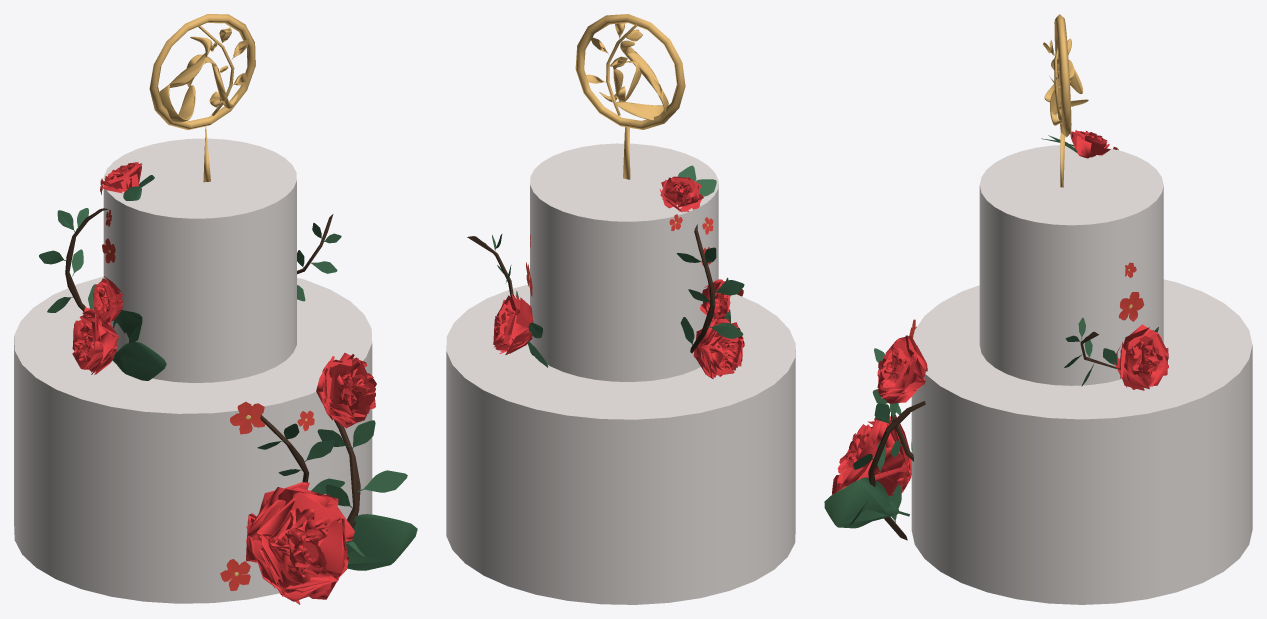
The model's file is 2-tier-white.glb.
The picture shows the model from 3 angles, left to right: view 1: azimuth 30°, elevation 25°; view 2: azimuth 150°, elevation 25°; view 3: azimuth 270°, elevation 25°; orthographic projection. The views are drawn at different scales.
Visible parts, largest first — view 1: Cylinder.014, Cylinder.013, grid.025, Cylinder.011, grid.024, Plane.049, Plane.059, grid.026, Plane.056, Plane.058, Plane.052, grid.027 (+5 smaller); view 2: Cylinder.014, Cylinder.013, Cylinder.011, Plane.056, grid.026, grid.028, grid.014, grid.027, Plane.045; view 3: Cylinder.014, Cylinder.013, grid.025, Cylinder.011, grid.028, Plane.049, grid.024, Plane.059, Plane.045, grid.014, Plane.058.
Part boxes in pixels (x1,y1,x2,y2): Cylinder.014: (14,276,372,603); Cylinder.013: (103,138,296,382); grid.025: (246,482,354,604); Cylinder.011: (149,14,255,182); grid.024: (316,353,376,428); Plane.049: (345,514,417,570); Plane.059: (317,420,407,556); grid.026: (72,307,118,374); Plane.056: (39,208,108,312); Plane.058: (257,415,344,494); Plane.052: (113,342,166,380); grid.027: (92,276,122,324); Cylinder.014: (446,284,795,604); Cylinder.013: (530,143,718,381); Cylinder.011: (575,14,685,179); Plane.056: (676,224,744,353); grid.026: (693,318,744,379); grid.028: (493,293,533,354); grid.014: (660,176,703,212); grid.027: (700,279,730,323); Plane.045: (467,234,518,298); Cylinder.014: (911,279,1252,604); Cylinder.013: (979,144,1163,385); grid.025: (832,414,911,495); Cylinder.011: (1043,14,1088,187); grid.028: (1113,324,1168,390); Plane.049: (824,477,909,528); grid.024: (877,335,927,403); Plane.059: (849,401,925,540); Plane.045: (1064,317,1120,386); grid.014: (1070,130,1110,158); Plane.058: (872,348,913,461).
Bounding box in the file's own units: 3.42 × 5.49 × 4.13.
